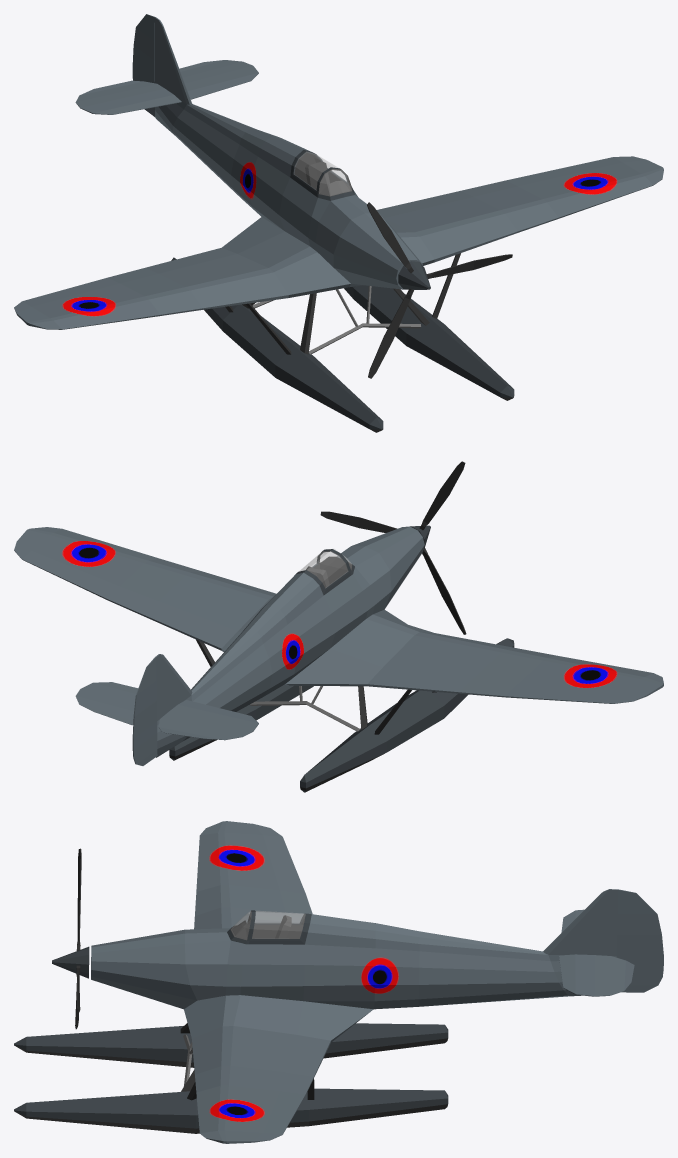
The picture shows the model from 3 angles, top to bottom: view 1: azimuth 30°, elevation 25°; view 2: azimuth 150°, elevation 25°; view 3: azimuth 270°, elevation 25°; orthographic projection. The views are drawn at different scales.
Parts seen in each view (by area): view 1: Body.002, propeller.002, Rudder.002, L_ailerone.002, R_ailerone.002, Circle.001, R_elevator.002; view 2: Body.002, L_ailerone.002, Rudder.002, propeller.002, R_ailerone.002, Circle.001, R_elevator.002, L_elevator.002; view 3: Body.002, Rudder.002, R_ailerone.002, L_ailerone.002, Circle.001, propeller.002, L_elevator.002.
Boxes of the visible parts, left/top/right/bottom form: Body.002: left=14, top=17, right=663, bottom=432; propeller.002: left=367, top=202, right=512, bottom=378; Rudder.002: left=132, top=14, right=155, bottom=116; L_ailerone.002: left=460, top=157, right=622, bottom=196; R_ailerone.002: left=22, top=268, right=158, bottom=306; Circle.001: left=292, top=151, right=348, bottom=192; R_elevator.002: left=76, top=80, right=157, bottom=102; Body.002: left=14, top=526, right=663, bottom=792; L_ailerone.002: left=22, top=551, right=158, bottom=616; Rudder.002: left=132, top=657, right=157, bottom=765; propeller.002: left=320, top=461, right=466, bottom=634; R_ailerone.002: left=460, top=678, right=622, bottom=703; Circle.001: left=298, top=550, right=349, bottom=590; R_elevator.002: left=158, top=718, right=242, bottom=740; L_elevator.002: left=75, top=696, right=133, bottom=725; Body.002: left=14, top=821, right=617, bottom=1143; Rudder.002: left=616, top=889, right=663, bottom=992; R_ailerone.002: left=263, top=835, right=312, bottom=915; L_ailerone.002: left=263, top=1072, right=313, bottom=1134; Circle.001: left=250, top=910, right=307, bottom=940; propeller.002: left=52, top=848, right=89, bottom=1029; L_elevator.002: left=610, top=956, right=634, bottom=995.
Size of the model in its own units: 1627 by 542 by 1395.
